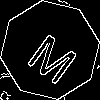M: (25, 25, 85, 87)
